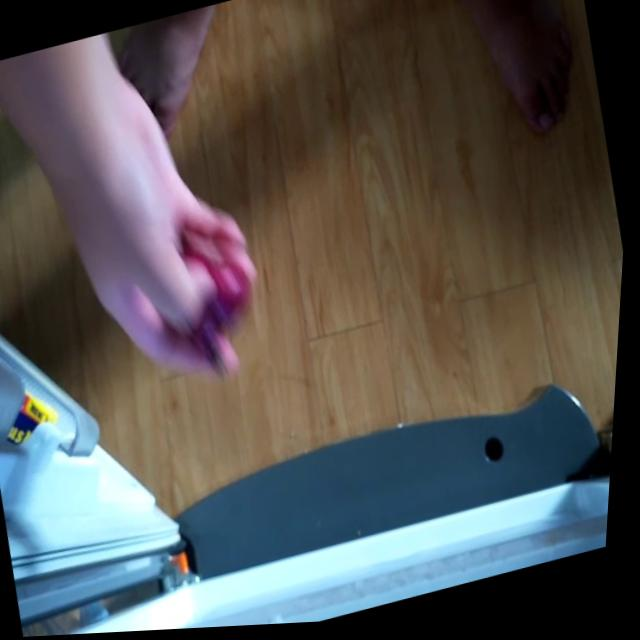onion: (165, 242, 272, 379)
